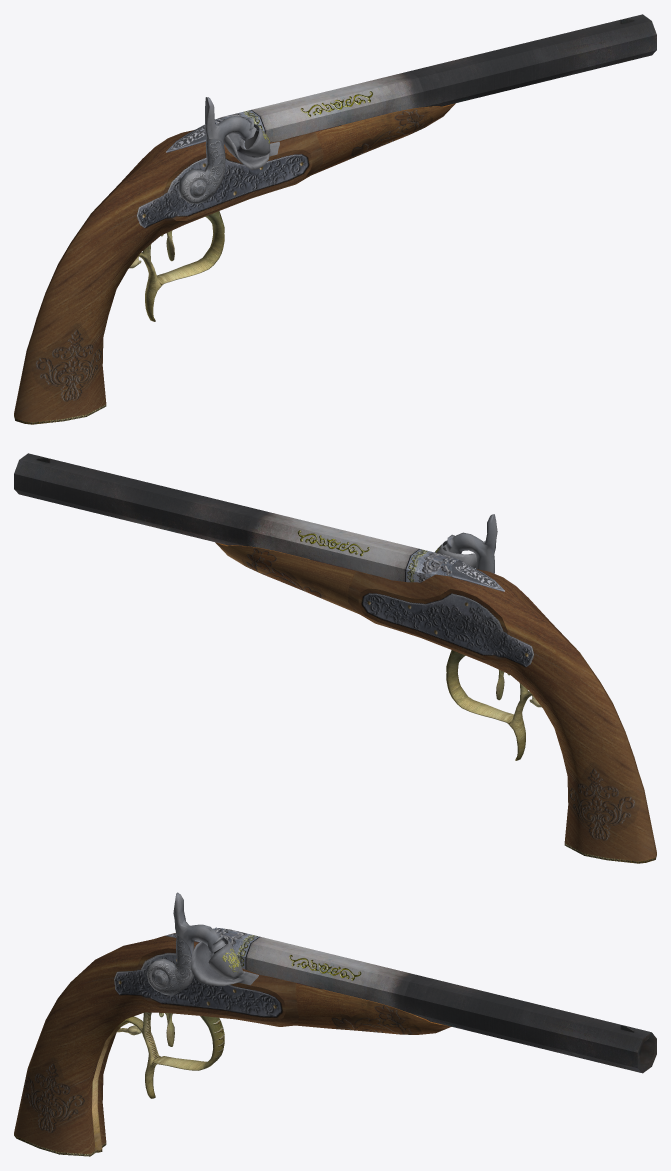
The model's file is Pistol.FBX.
The picture shows the model from 3 angles, top to bottom: view 1: azimuth 30°, elevation 25°; view 2: azimuth 150°, elevation 25°; view 3: azimuth 330°, elevation 25°; orthographic projection.
Parts seen in each view (by area): view 1: Plane002, Sphere001, Plane004; view 2: Plane002, Sphere001; view 3: Plane002, Sphere001, Plane004.
Part boxes in pixels (x1,y1,x2,y2): Plane002: [14, 14, 656, 424]; Sphere001: [178, 97, 256, 203]; Plane004: [224, 124, 279, 170]; Plane002: [14, 453, 656, 863]; Sphere001: [444, 514, 497, 573]; Plane002: [14, 927, 656, 1156]; Sphere001: [146, 892, 226, 995]; Plane004: [190, 935, 258, 985].
Bounding box in the file's own units: 223 × 98.42 × 24.38.
